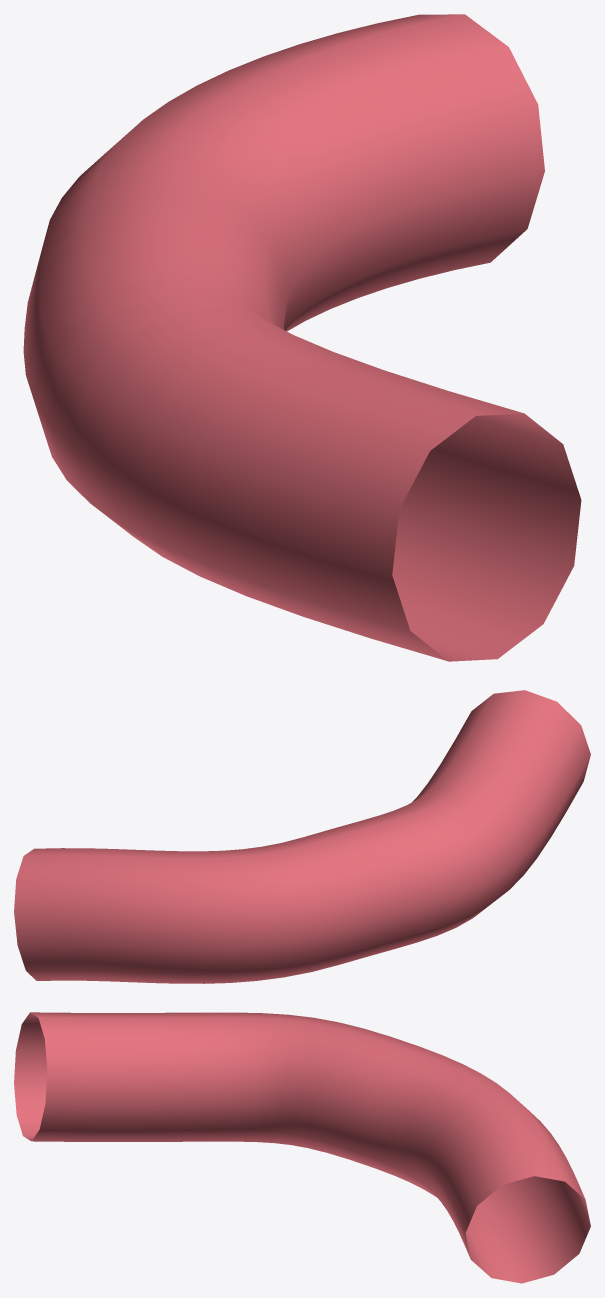
3 views of the same model, one above another, from view 1: azimuth 30°, elevation 25°; view 2: azimuth 150°, elevation 25°; view 3: azimuth 270°, elevation 25° (orthographic). The views are drawn at different scales.
Parts seen in each view (by area): view 1: ZA_bffdbb72b75fc706; view 2: ZA_bffdbb72b75fc706; view 3: ZA_bffdbb72b75fc706.
Boxes of the visible parts, box(x1,y1,x2,y2) form: ZA_bffdbb72b75fc706: box(23, 14, 581, 661); ZA_bffdbb72b75fc706: box(14, 690, 590, 983); ZA_bffdbb72b75fc706: box(14, 1012, 590, 1283).
Size of the model in its own units: 0.00604 by 0.00265 by 0.00889.
